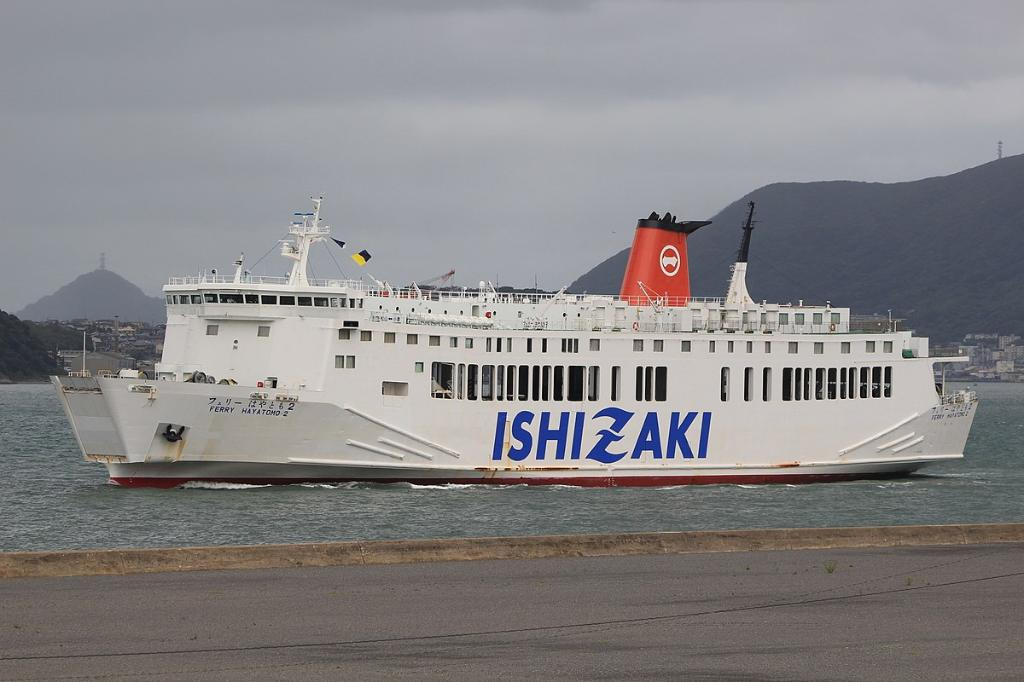PassengerShip: (56, 180, 978, 496)
